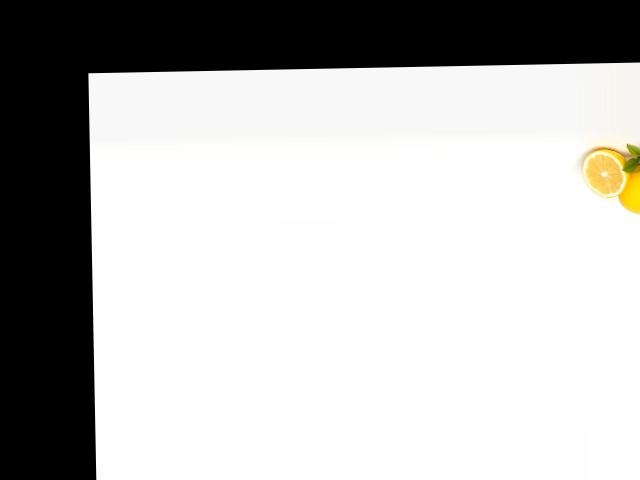lemon: (617, 165, 640, 217)
